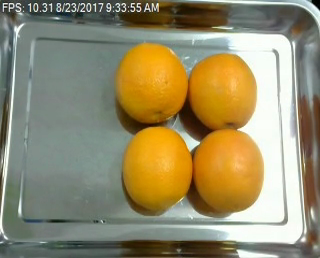Orange: (121, 126, 193, 213), (193, 128, 265, 212), (114, 41, 187, 122), (190, 52, 257, 130)
